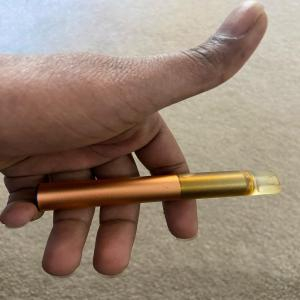Golden-E-Ciggirate: (33, 166, 287, 214)
